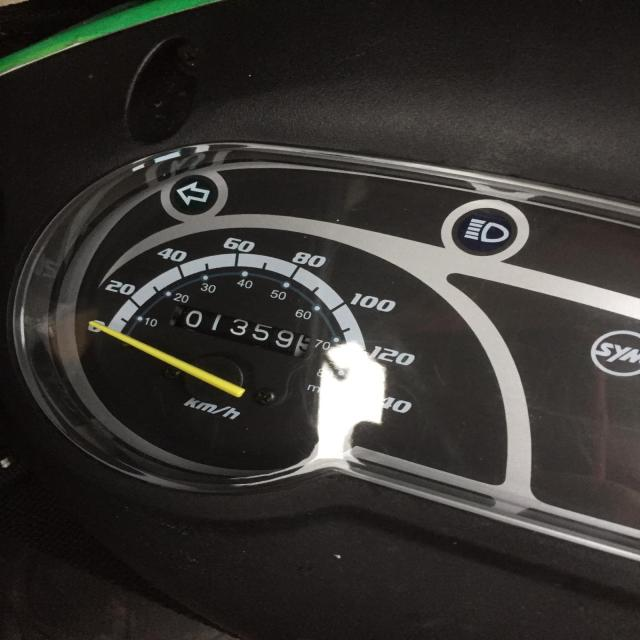odometer: (166, 303, 314, 360)
